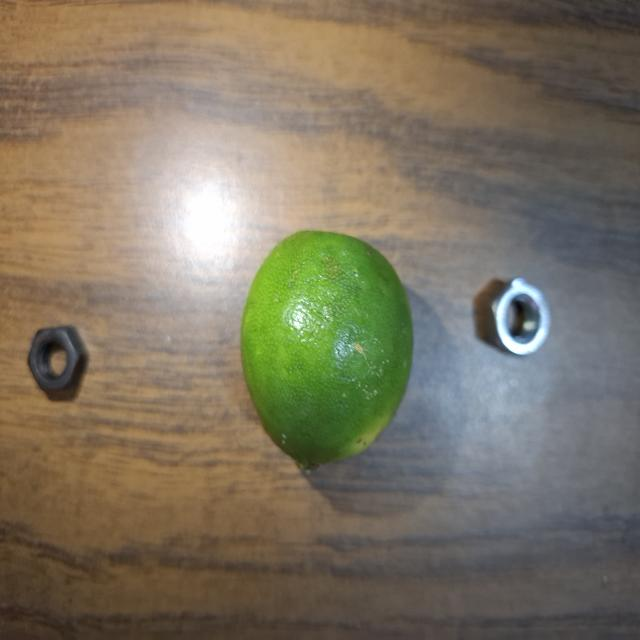limon: (233, 228, 418, 490)
milimetrico: (17, 317, 100, 407)
tuerca: (478, 264, 560, 373)
